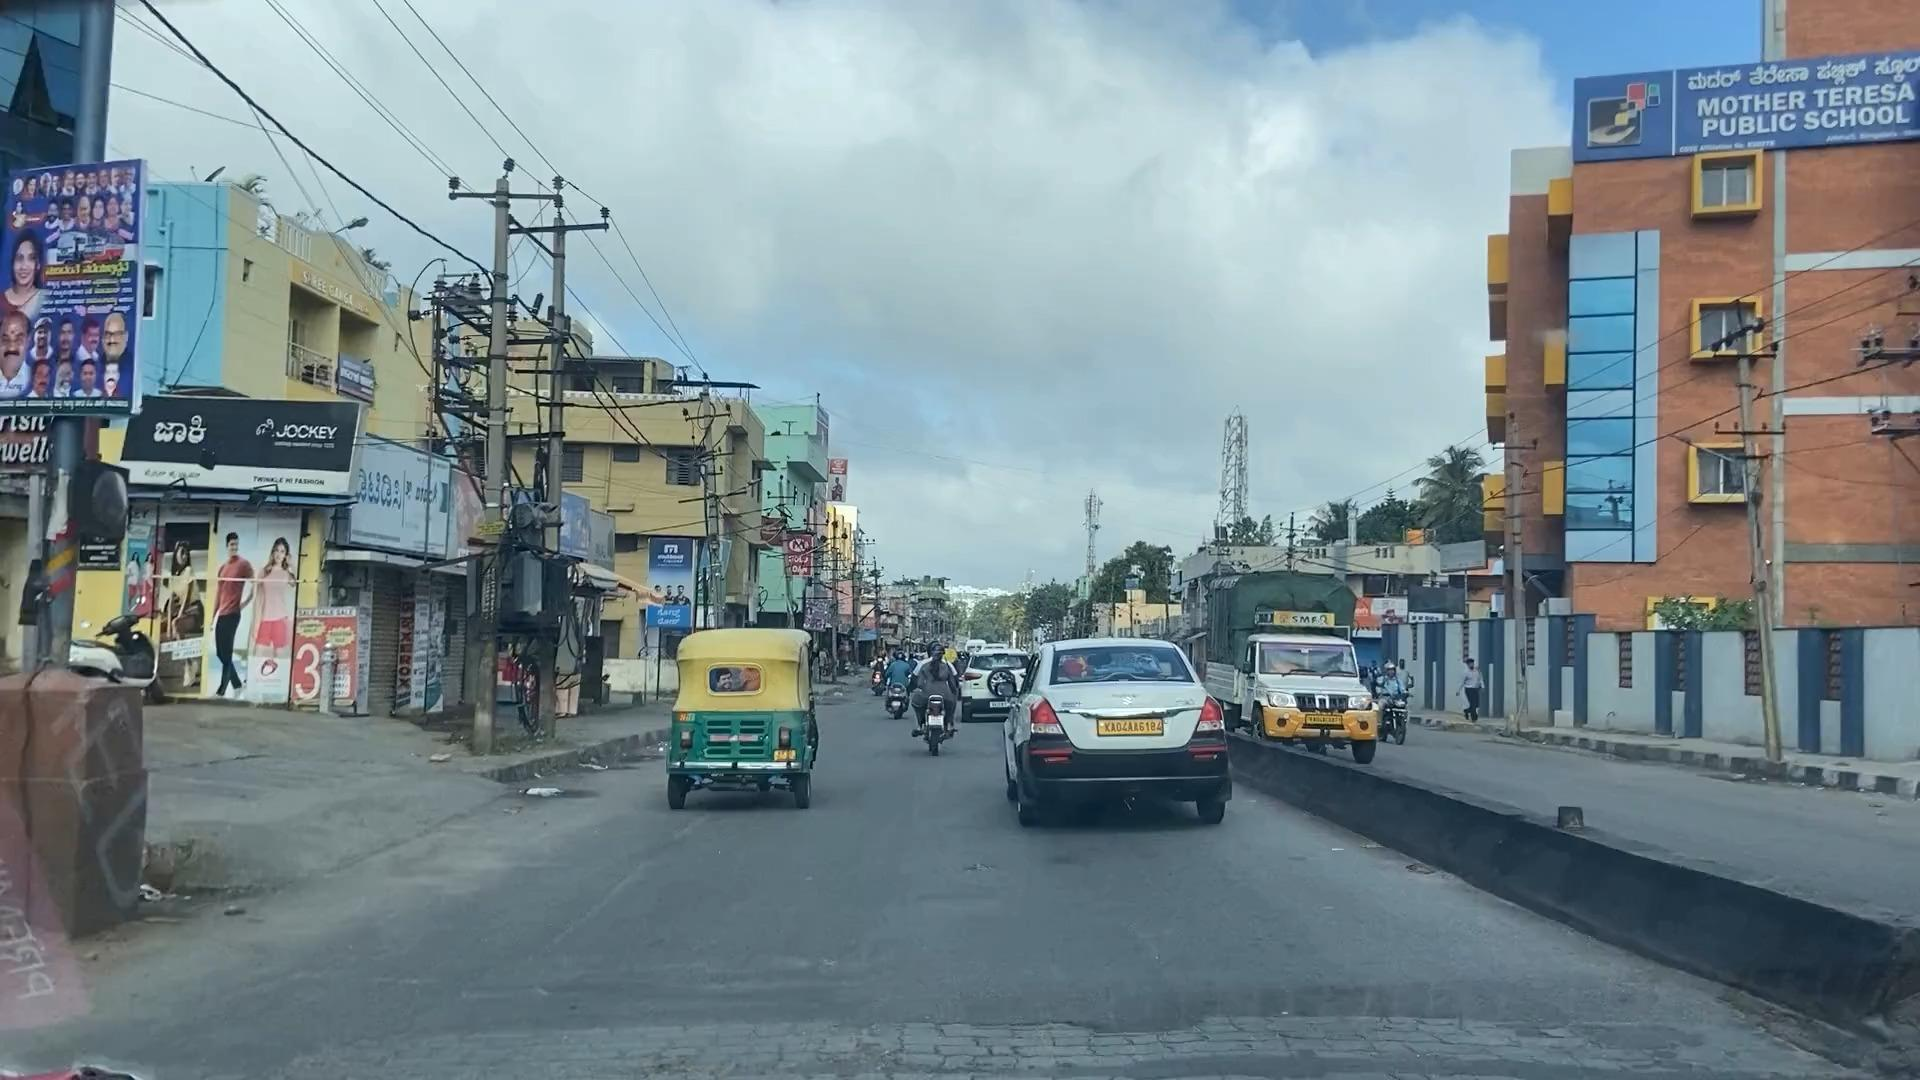LMV: (1001, 632, 1232, 827), (674, 628, 823, 814)
UnsurfacedRoad: (344, 975, 1650, 1080)
